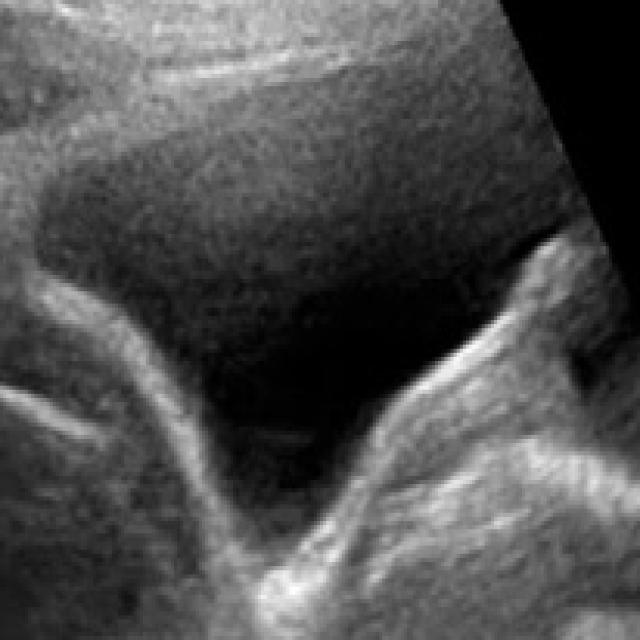bladder: (24, 5, 604, 596)
